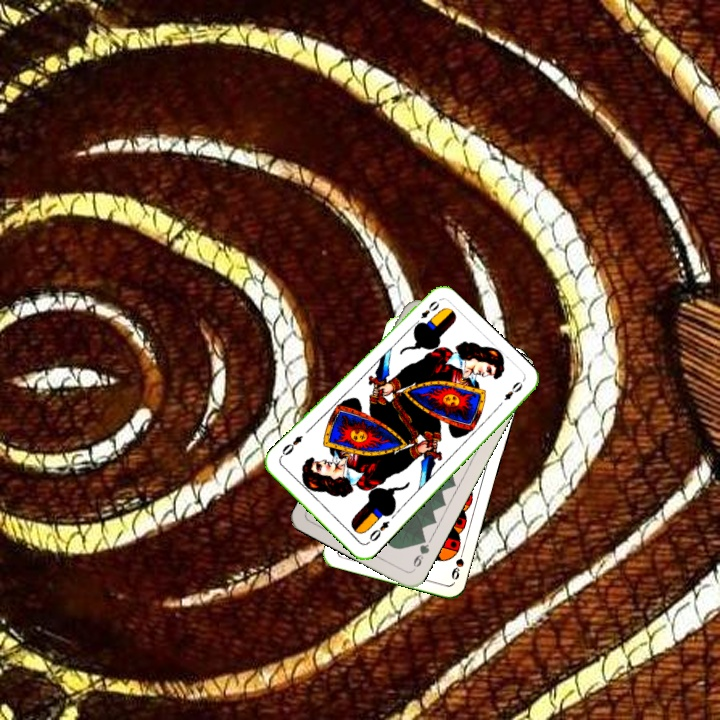EO: (365, 516, 392, 544), (416, 297, 442, 321)
G9: (409, 533, 432, 573)
S9: (447, 544, 467, 583)
